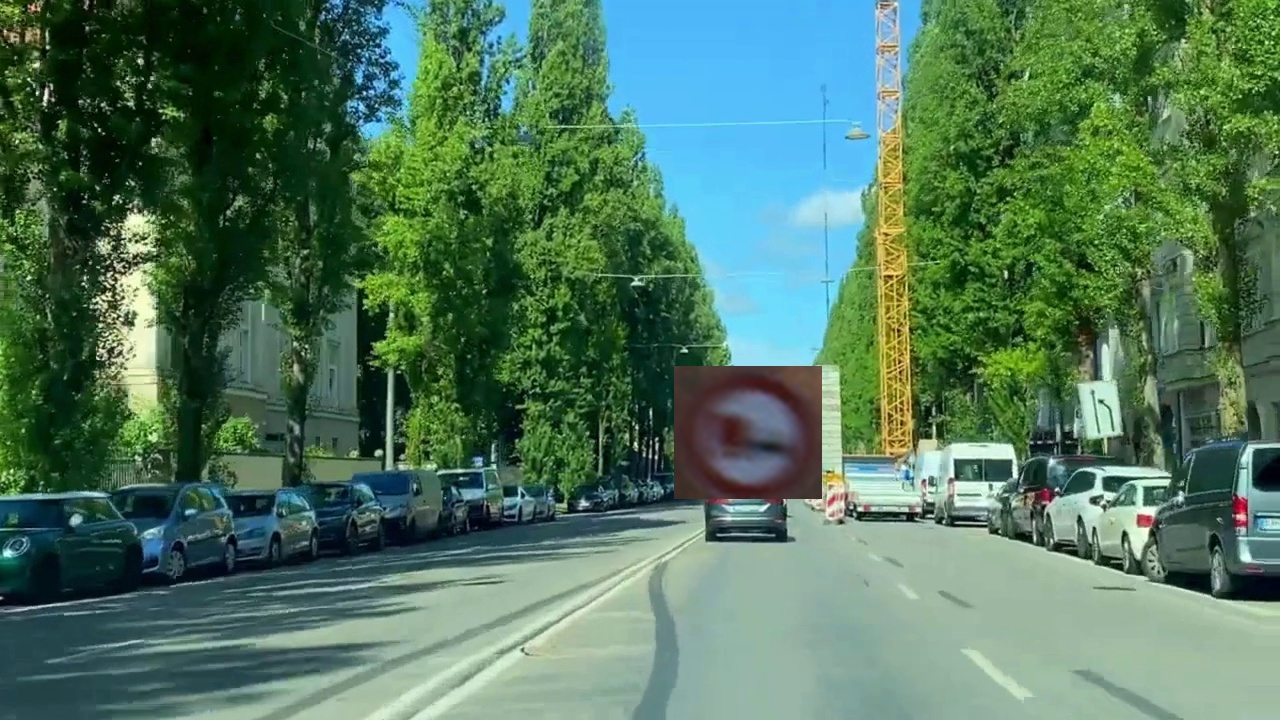No pass >3.5t: (674, 366, 822, 499)
